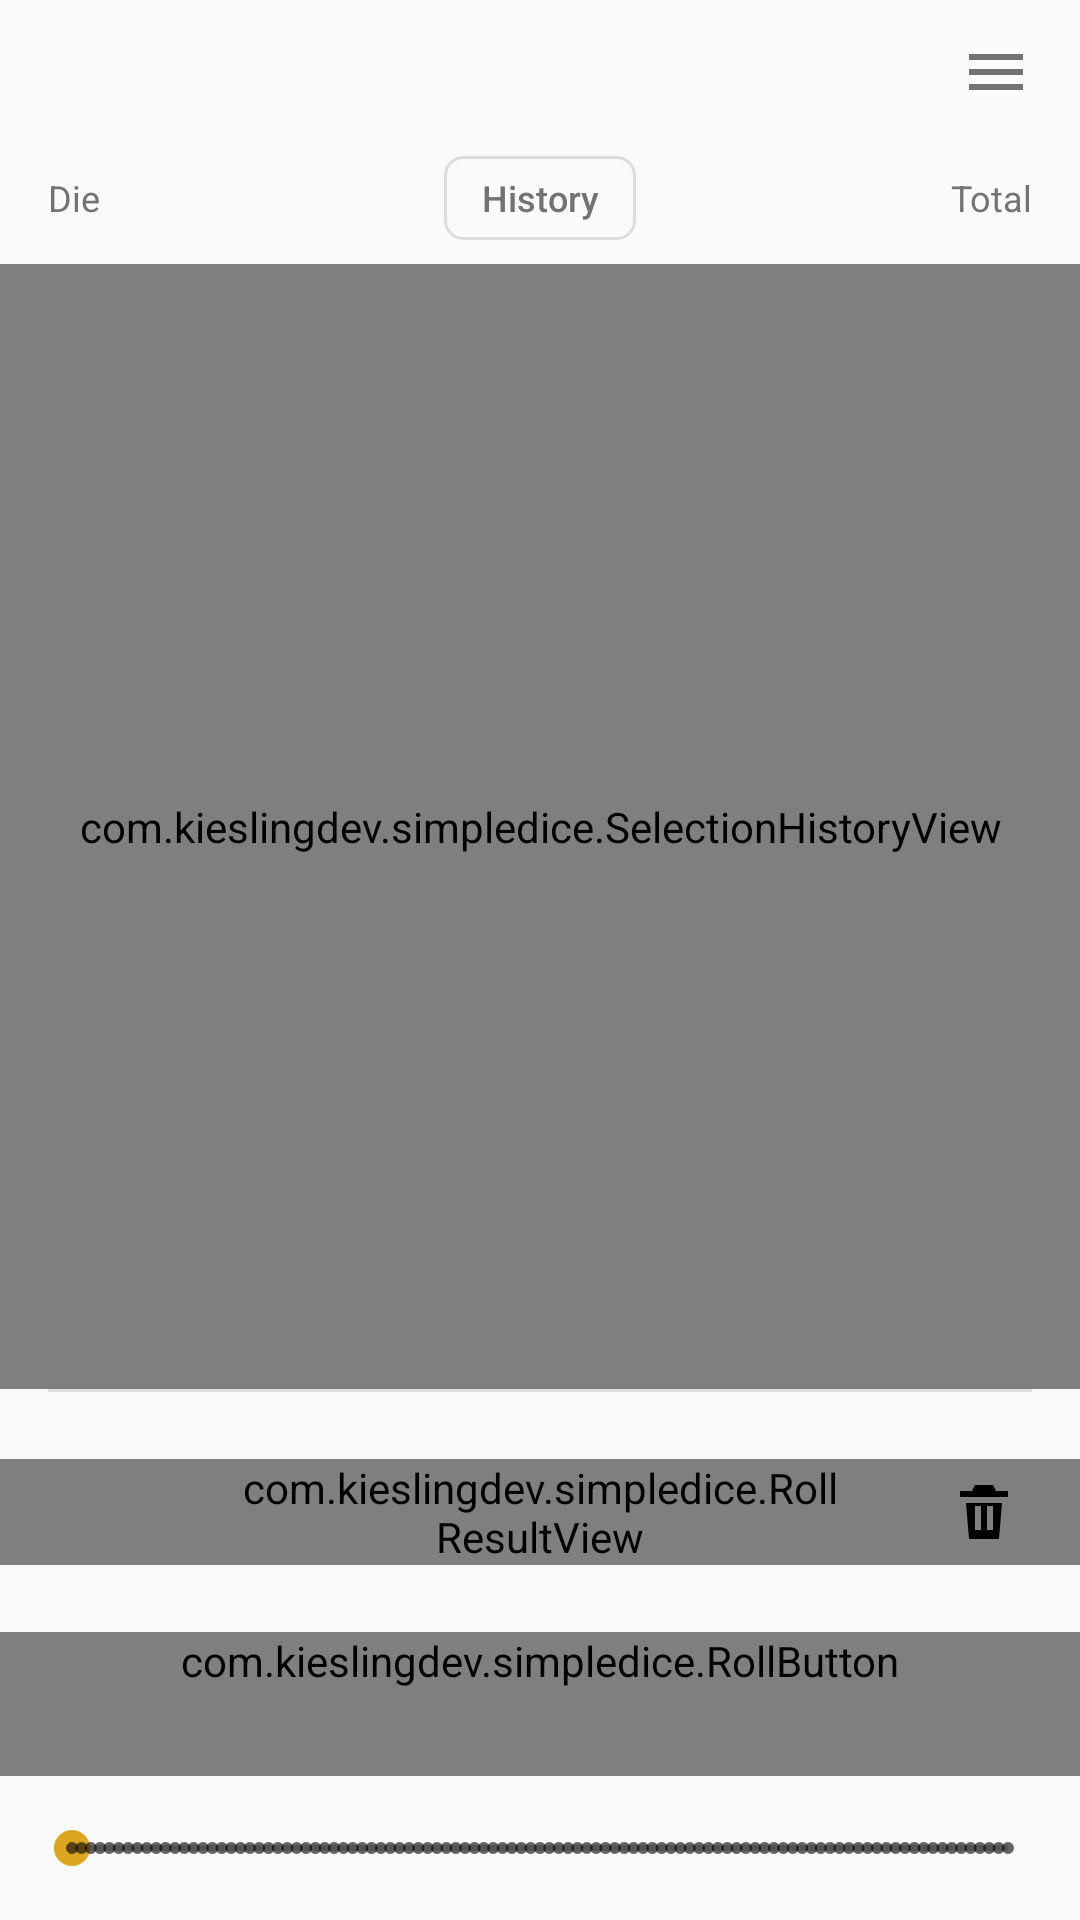

Screen size 1080 × 1920. Icon name, then its center in pixels as (x,y):
menu: (996,72)
